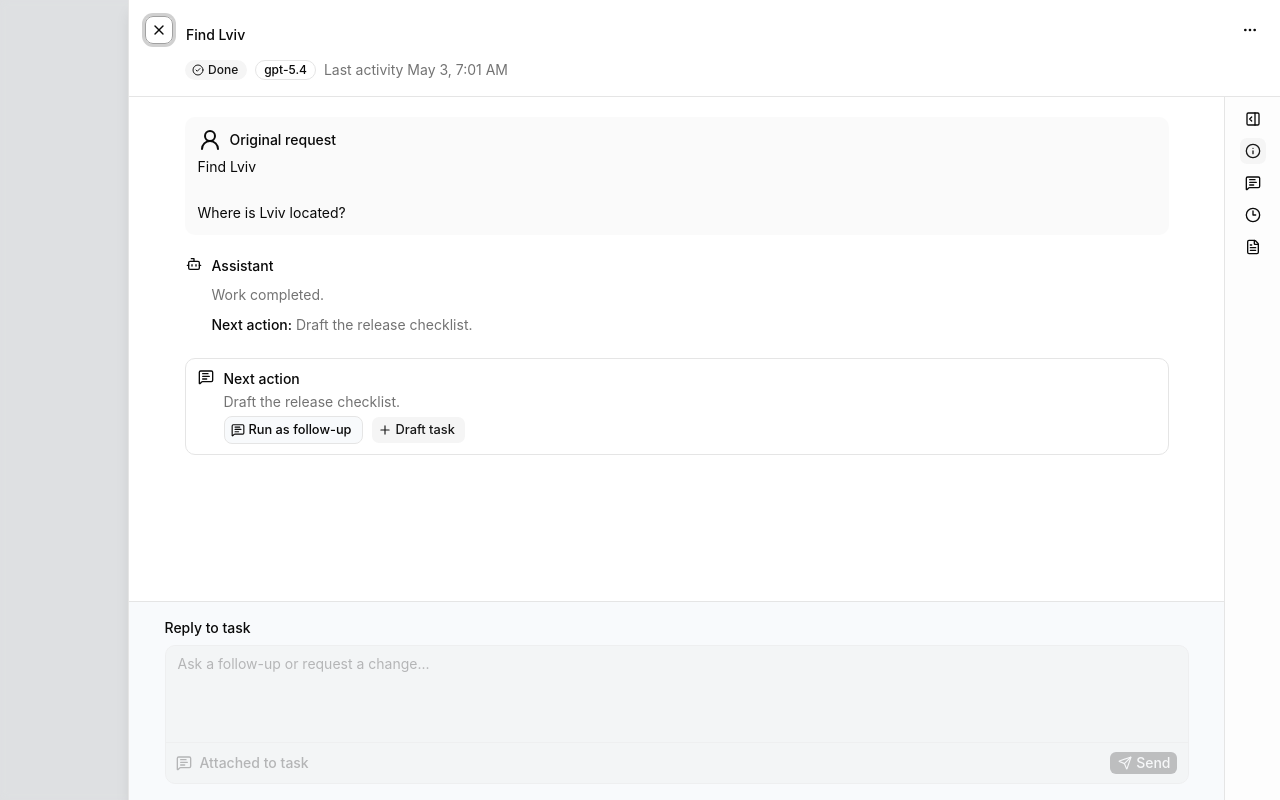
it: TaskModal › creates a draft task from a next action
This screenshot has width=1280, height=800.
What coordinates should you click on to do the following:
click the button "Draft task"
I would click on:
 (418, 430)
Its box is [370,416,466,444].
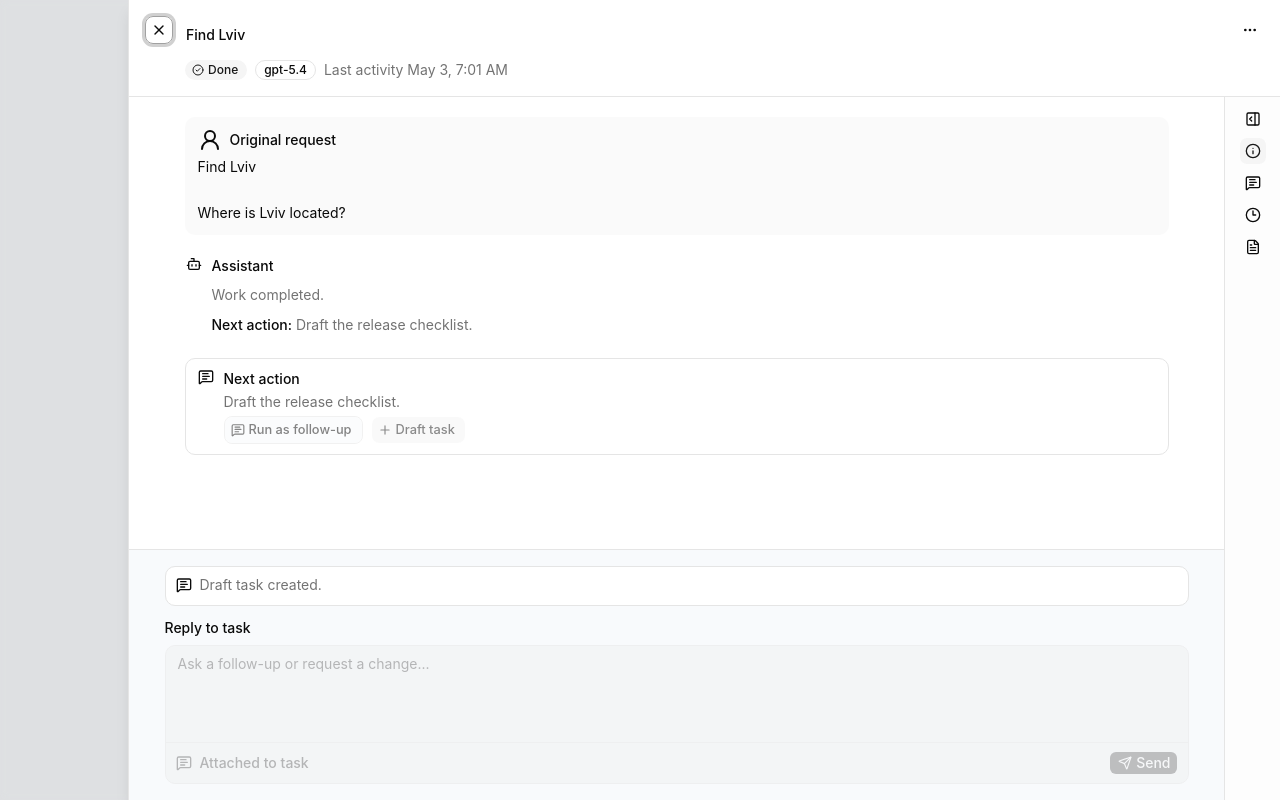
Expected: the button "Run as follow-up" is disabled, [224,416,362,444]
Expected: the button "Draft task" is disabled, [370,416,466,444]
